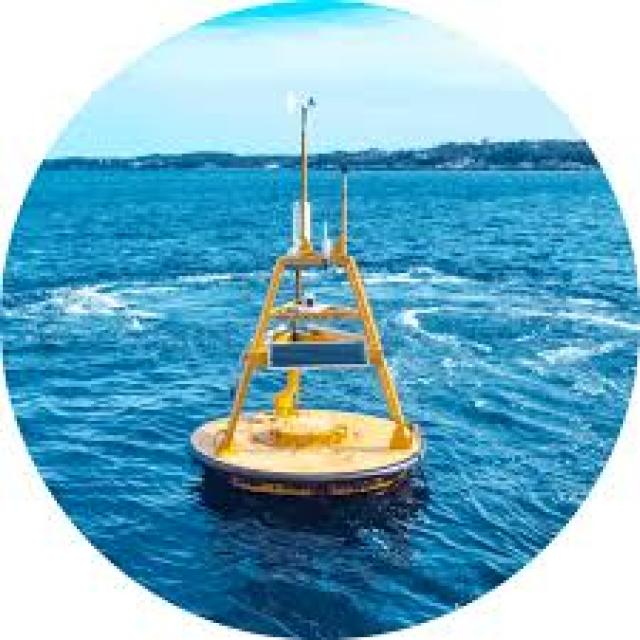buoy: (194, 193, 422, 500)
